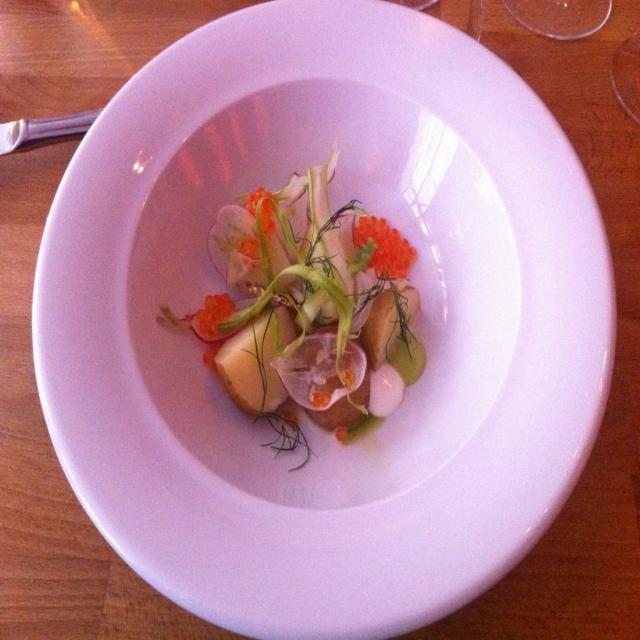ceramic plate: (34, 5, 608, 640)
